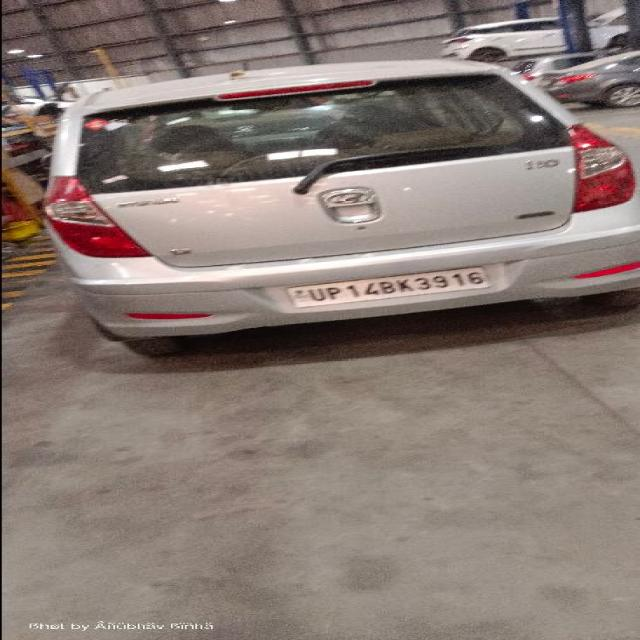license_plate: (282, 265, 493, 308)
